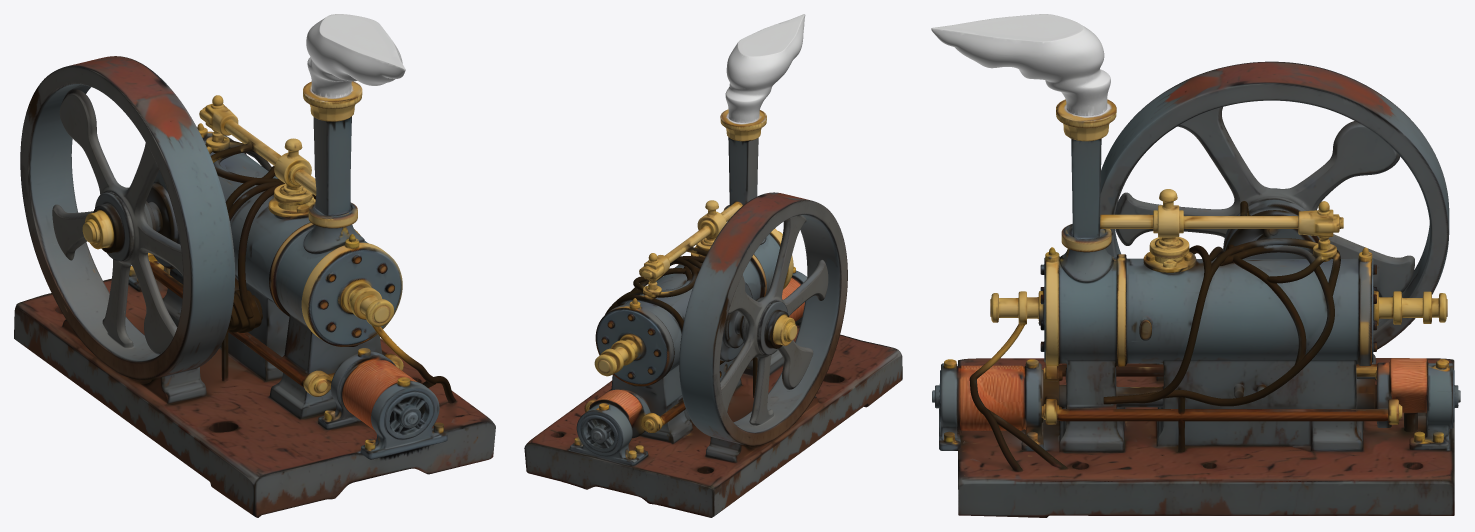
Rendered from lhi_steam_engine_4k_texture.glb.
3 renders of one model, left to right at view 1: azimuth 30°, elevation 25°; view 2: azimuth 150°, elevation 25°; view 3: azimuth 270°, elevation 25°, orthographic. The views are drawn at different scales.
Parts seen in each view (by area): view 1: material; view 2: material; view 3: material.
Boxes of the visible parts, left/top/right/bottom form: material: left=14, top=14, right=495, bottom=517; material: left=524, top=14, right=902, bottom=517; material: left=931, top=14, right=1460, bottom=517.
Size of the model in its own units: 0.4806 by 0.7678 by 0.8334.
1 material, 1 textured.
